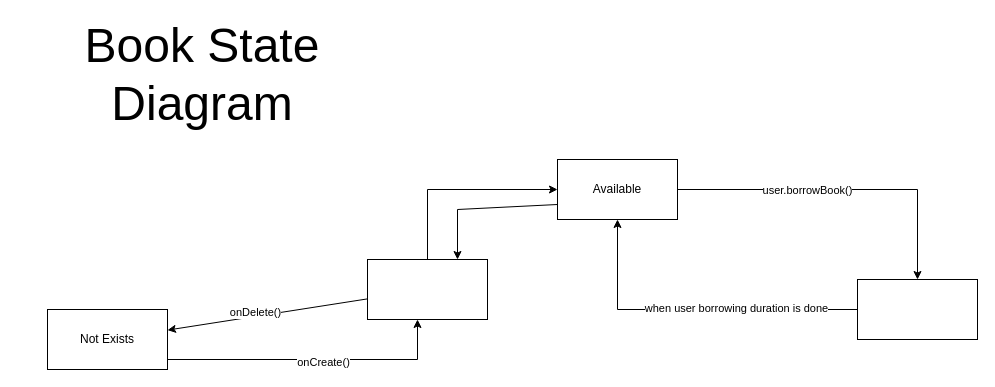
This 995x387 diagram has some shape labels left out. Each missing label, with the centre of its shape:
"Borrowed" belongs at point (917, 309).
"Created" belongs at point (427, 289).
